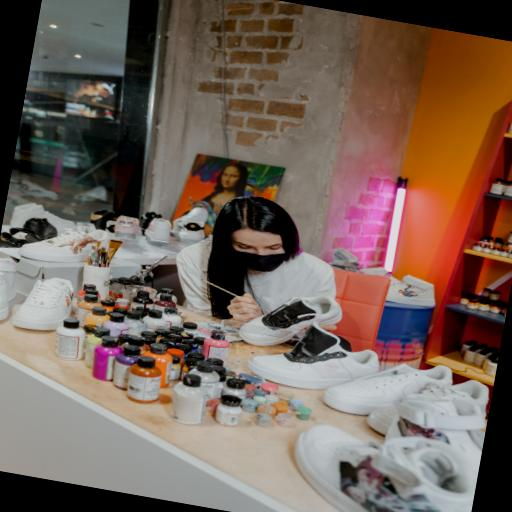shoe: (295, 425, 475, 511), (386, 394, 485, 483), (248, 324, 379, 389), (323, 364, 452, 415), (240, 296, 341, 346), (13, 278, 73, 330), (19, 229, 108, 262), (422, 380, 489, 412), (10, 204, 74, 233), (386, 275, 435, 307), (172, 207, 208, 242), (10, 179, 59, 200), (37, 211, 74, 234), (10, 203, 45, 227), (0, 228, 42, 247), (21, 180, 59, 201), (24, 218, 58, 240), (145, 218, 171, 245), (330, 248, 359, 272), (0, 258, 16, 300), (1, 228, 43, 244), (115, 215, 141, 239), (74, 185, 107, 202), (90, 209, 115, 230), (140, 212, 162, 232), (0, 272, 9, 320), (0, 233, 21, 248), (60, 201, 78, 216), (358, 267, 387, 276), (76, 222, 95, 234), (1, 227, 2, 232)
